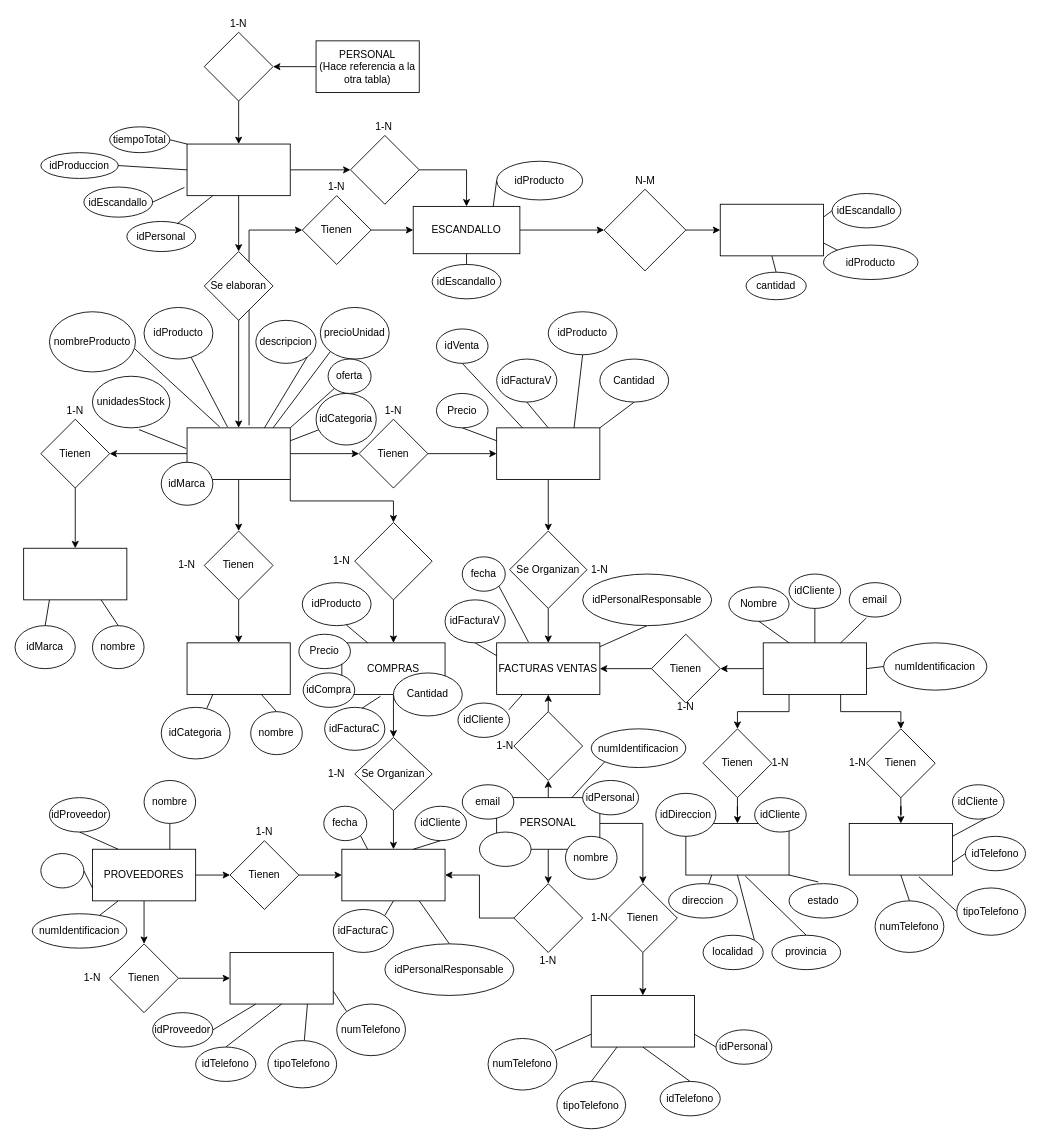
The diagram is 1041 pixels wide and 1144 high, and some of its shapes have lost their labels. The shapes that lost their labels are listed below. From the top down, each one's centre as x and y in pixels, then its label:
At (238,66): "Realiza".
At (238,169): "PRODUCCION".
At (384,169): "Usan".
At (644,229): "Se componen de".
At (771,229): "COMPONENTES".
At (238,453): "PRODUCTOS".
At (548,453): "VENTAS".
At (75,573): "MARCAS".
At (393,561): "Se Adquieren".
At (238,668): "CATEGORIAS".
At (814,668): "CLIENTES".
At (548,745): "Supervisan".
At (505,848): "empleo".
At (737,849): "DIRECCIONES".
At (900,849): "TELEFONOS CLIENTES".
At (62,870): "correo".
At (393,874): "FACTURAS COMPRAS".
At (548,917): "Realizan".
At (281,978): "TELEFONOS PROVEEDORES".
At (642,1021): "TELEFONOS PERSONAL".
